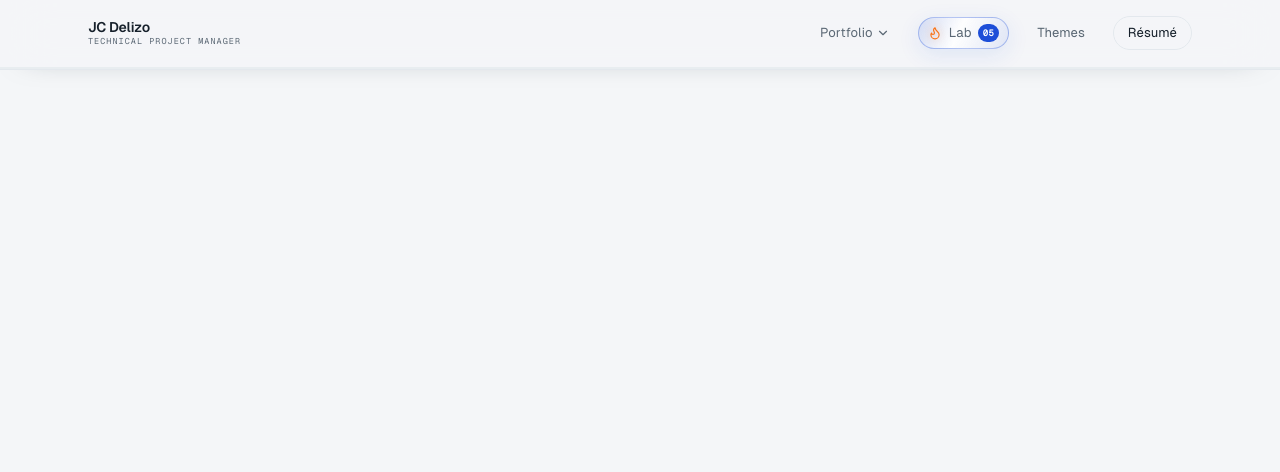
Scenario: Nav structure › gives 13-inch-class widths one Portfolio dropdown holding every section
The width and height of the screenshot is (1280, 472).
Step 1. Click the button "Portfolio" → (855, 33), box [820,23,890,43]
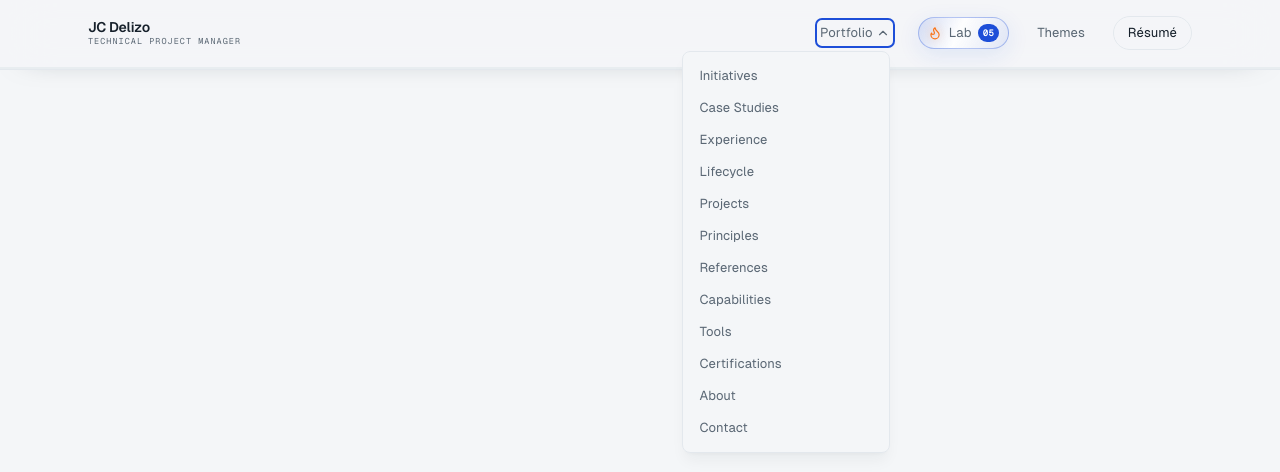
Now the button "Portfolio" is expanded, box [820,23,890,43]
Step 2. Press Escape
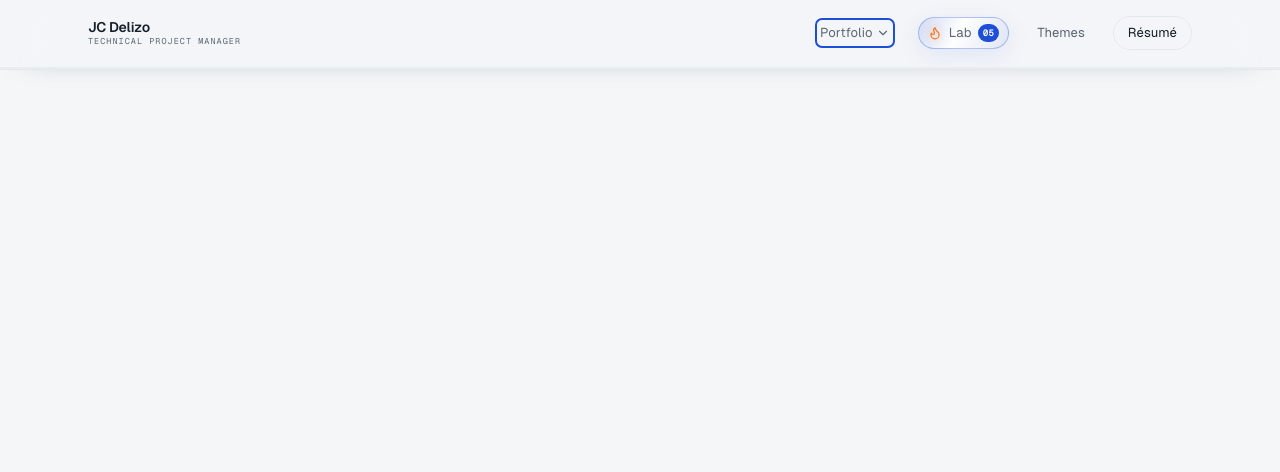
Now the button "Portfolio" is collapsed, box [820,23,890,43]
